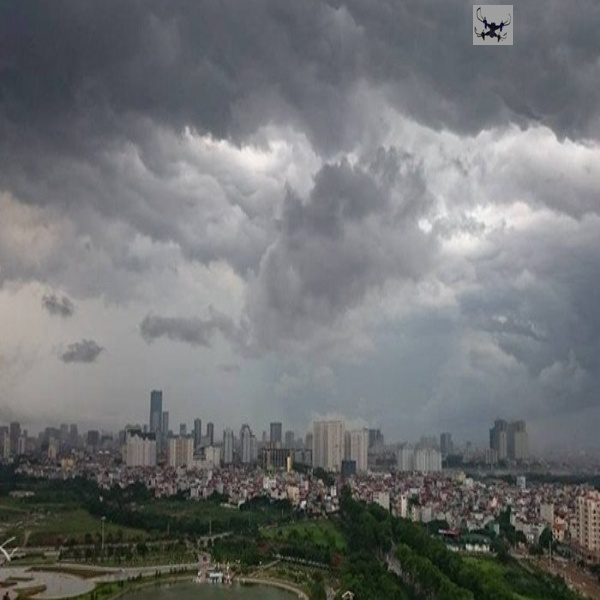drone: (472, 8, 516, 49)
